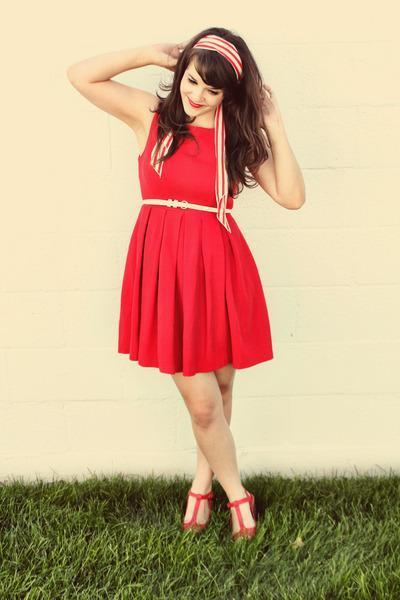dress: (118, 113, 272, 375)
shoe: (181, 494, 254, 556)
